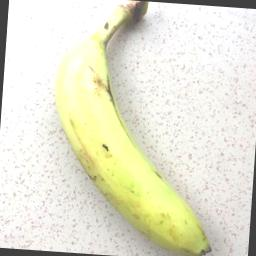Banana Ripe: (38, 17, 241, 256)
